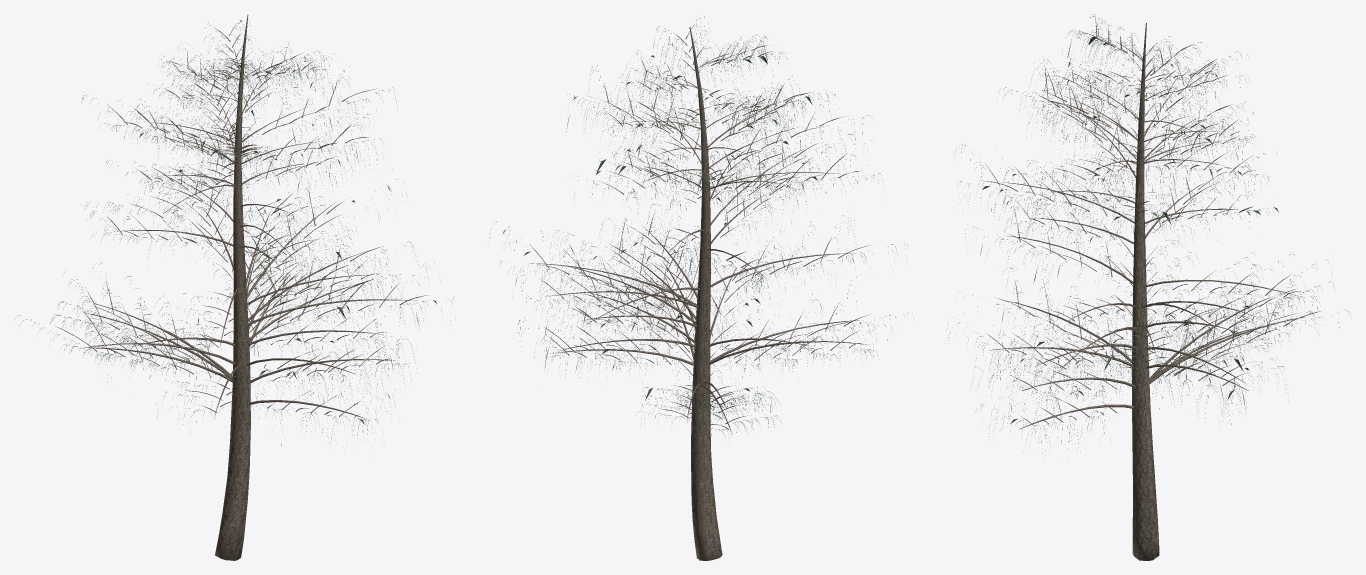
Rendered from casuarina-4.glb.
The picture shows the model from 3 angles, left to right: view 1: azimuth 30°, elevation 25°; view 2: azimuth 150°, elevation 25°; view 3: azimuth 270°, elevation 25°; orthographic projection. The views are drawn at different scales.
Parts seen in each view (by area): view 1: bark, branchlets; view 2: bark, branchlets; view 3: bark, branchlets.
Part boxes in pixels (x1,y1,x2,y2): bark: [55, 15, 427, 560]; branchlets: [18, 20, 454, 445]; bark: [529, 24, 869, 560]; branchlets: [489, 16, 907, 439]; bark: [981, 20, 1320, 560]; branchlets: [947, 14, 1349, 450].
Size of what is drawn, in the model's own units: 6.02 by 7.83 by 5.33.
2 materials, 2 textured.
